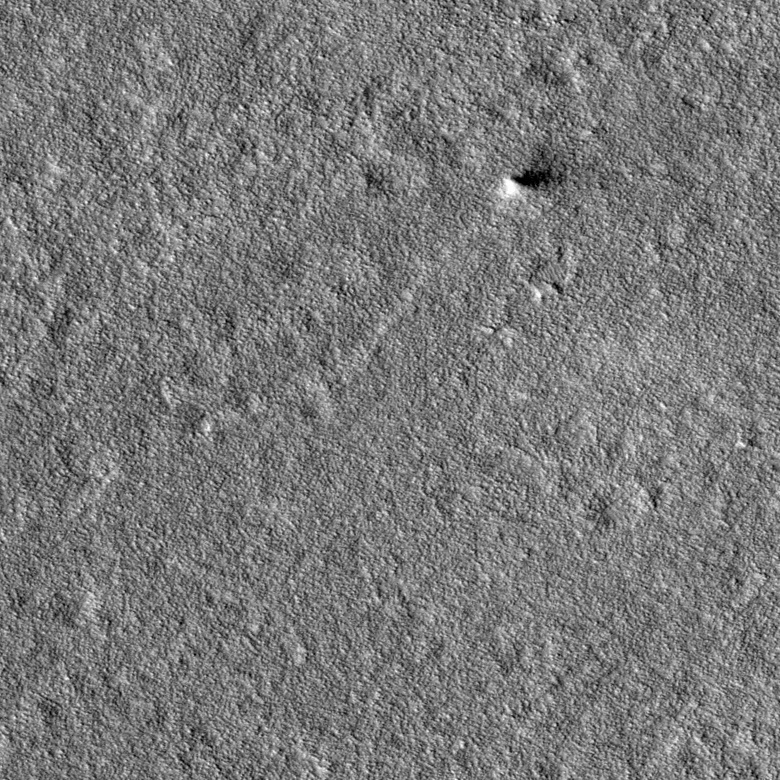dust_devil: (501, 165, 563, 198)
